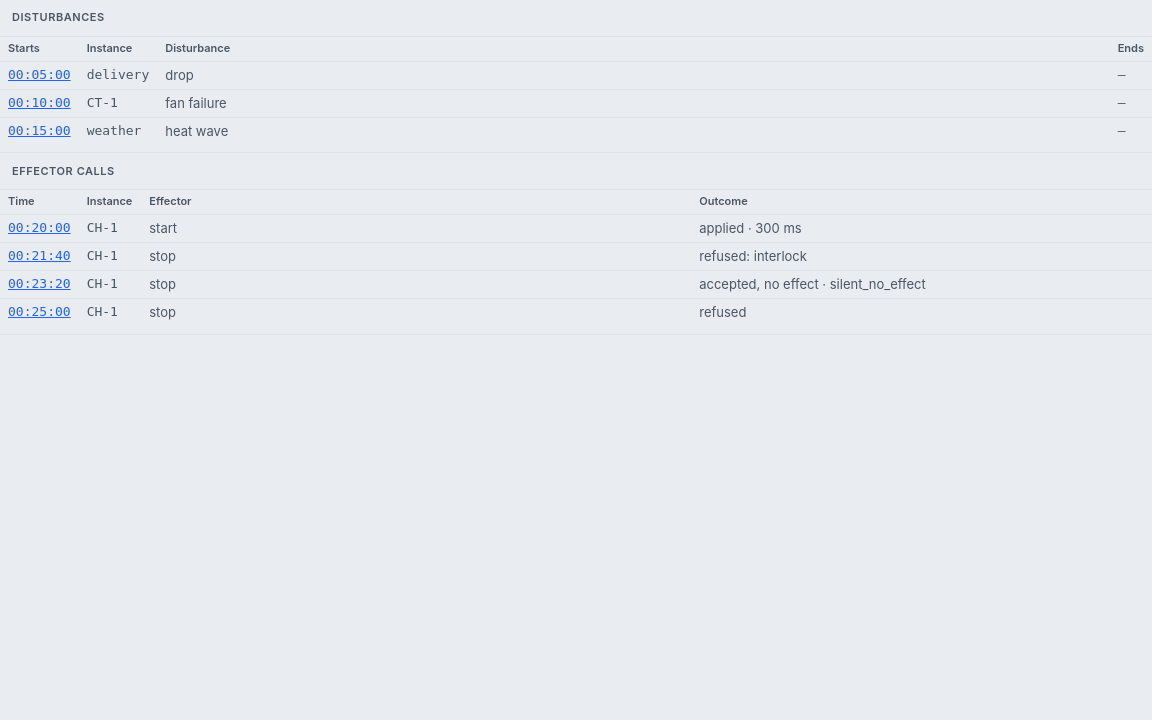
it: the action story of an effector call › marks the selected row and shows a refusal with its reason
Click the button named "Open 00:21:40 CH-1 stop". click: x=39, y=257
box: [8,247,71,266]
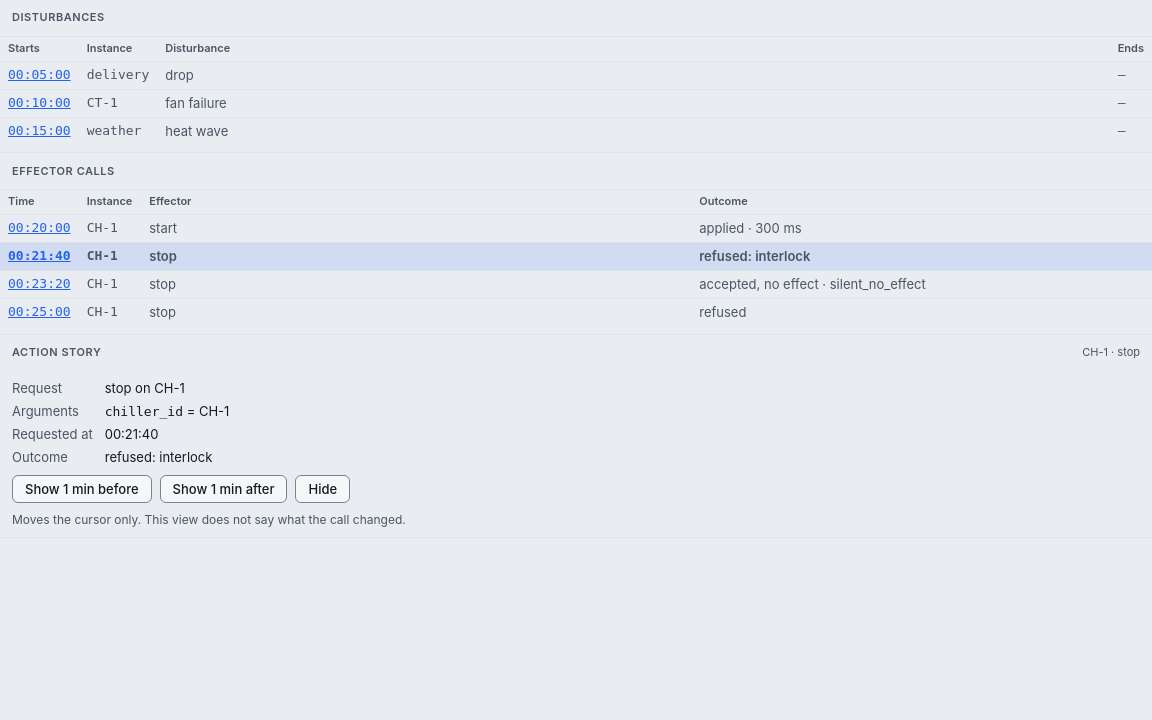
Expected: the row "00:21:40 CH-1 stop refused: interlock" is shown, [0,243,1151,271]
Now the element "Action story" shows "refused: interlock", box [105,449,212,465]
